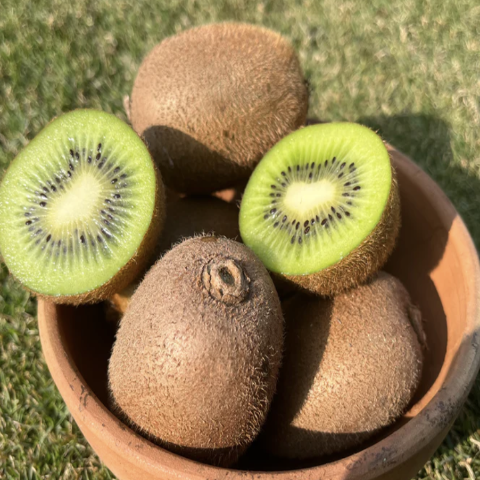kiwi: (101, 197, 295, 473), (111, 17, 313, 201)
